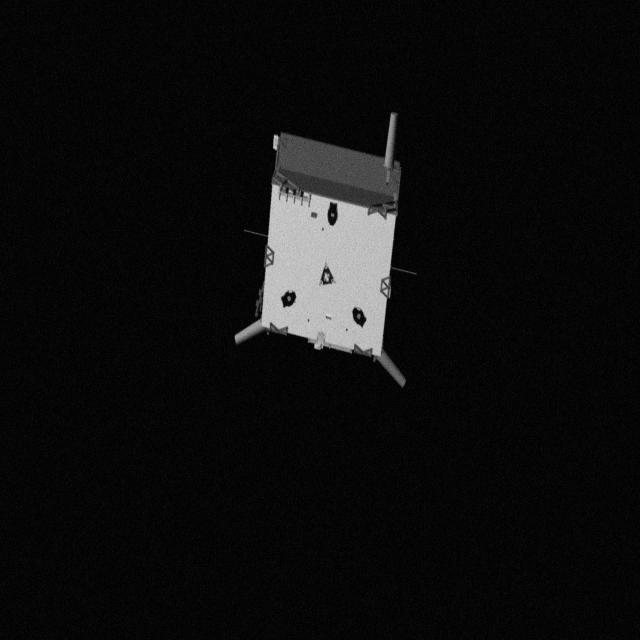medium_debris: (238, 98, 422, 404)
